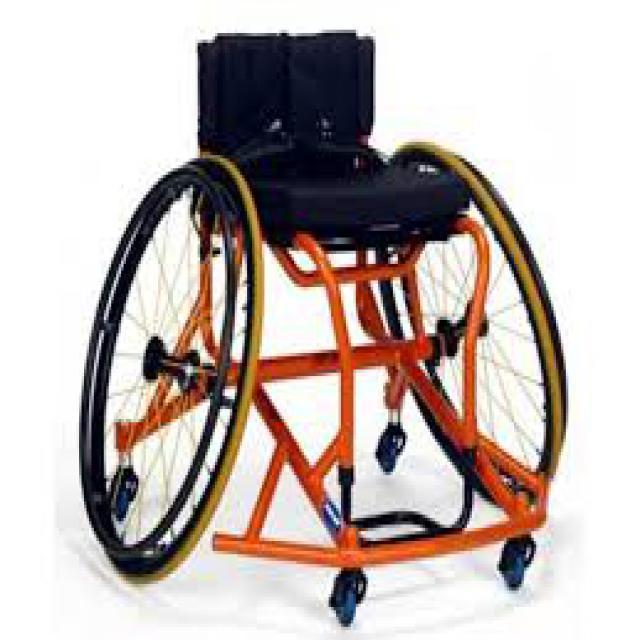wheelchairs: (87, 29, 566, 614)
